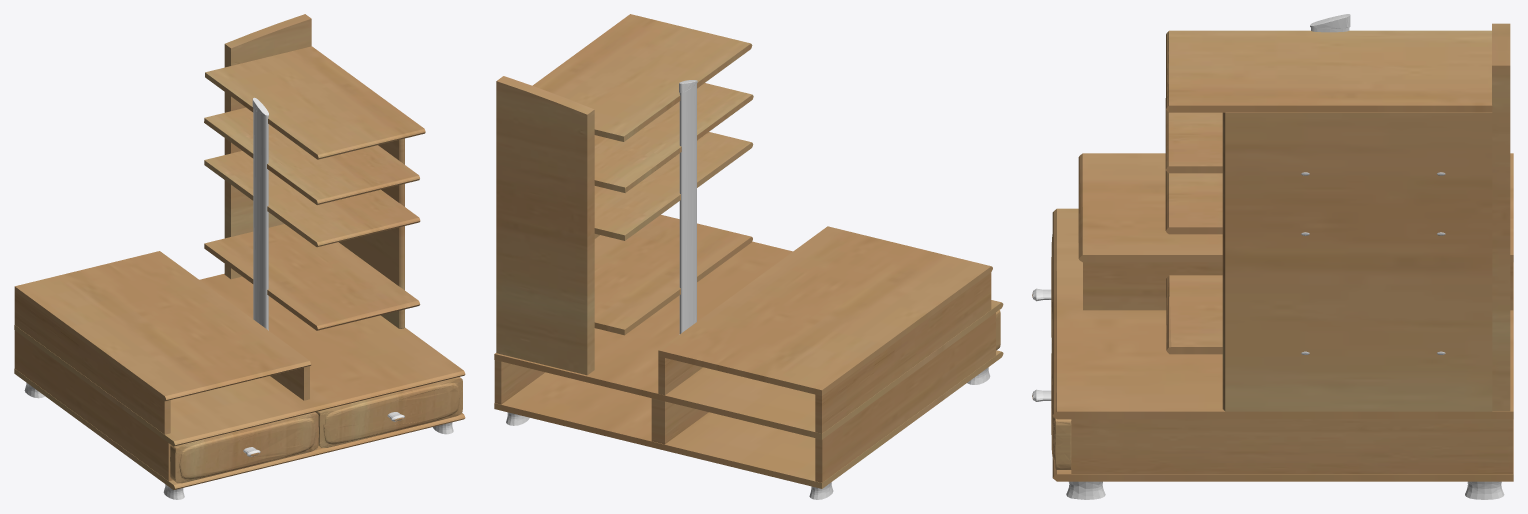
The model's file is sh-bs0-television-cabinet.glb.
3 views of the same model, side by side, from view 1: azimuth 30°, elevation 25°; view 2: azimuth 150°, elevation 25°; view 3: azimuth 270°, elevation 25° (orthographic). The views are drawn at different scales.
Visible parts, largest first — view 1: doors.002_Cube.031, flashy_supporter.001_Cube.025; view 2: doors.002_Cube.031, flashy_supporter.001_Cube.025; view 3: doors.002_Cube.031, flashy_supporter.001_Cube.025.
Boxes of the visible parts, x1,y1,x2,y2 form: doors.002_Cube.031: (14, 14, 465, 489); flashy_supporter.001_Cube.025: (24, 97, 453, 499); doors.002_Cube.031: (494, 14, 1003, 488); flashy_supporter.001_Cube.025: (506, 80, 990, 499); doors.002_Cube.031: (1032, 23, 1513, 481); flashy_supporter.001_Cube.025: (1066, 14, 1504, 499).
Bounding box in the file's own units: 1 × 1 × 0.9999.
Materials: 3 (1 with a texture image).
